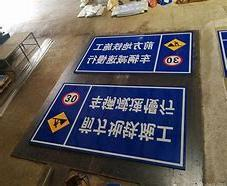sign: (28, 81, 190, 169), (73, 28, 196, 72)
